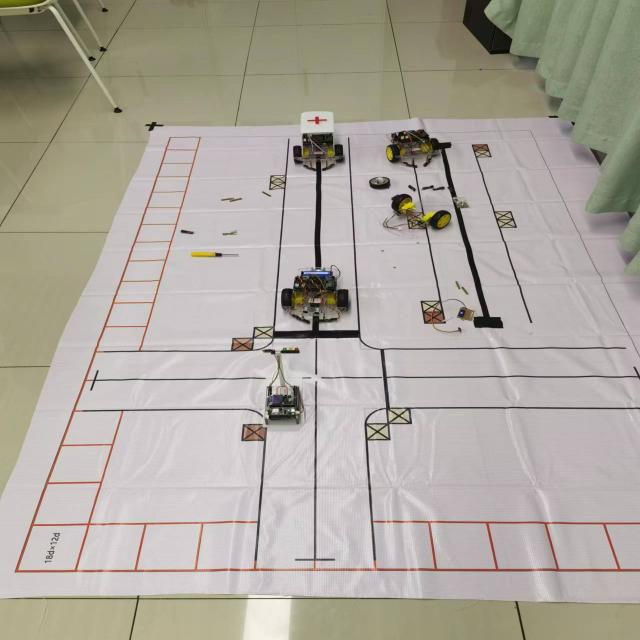RedCross: (304, 115, 330, 126)
